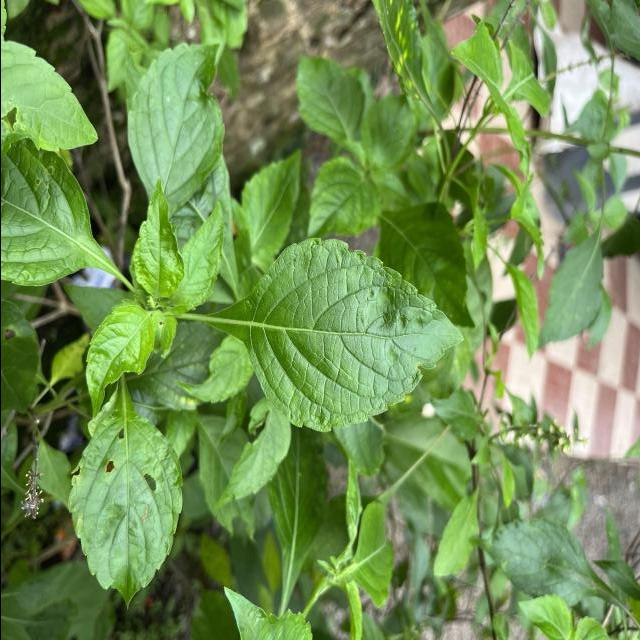Ocimum gratissimum: (199, 234, 466, 436), (64, 397, 185, 617), (0, 127, 127, 290), (0, 39, 100, 157), (80, 296, 156, 426), (159, 196, 226, 318), (130, 176, 188, 300)
